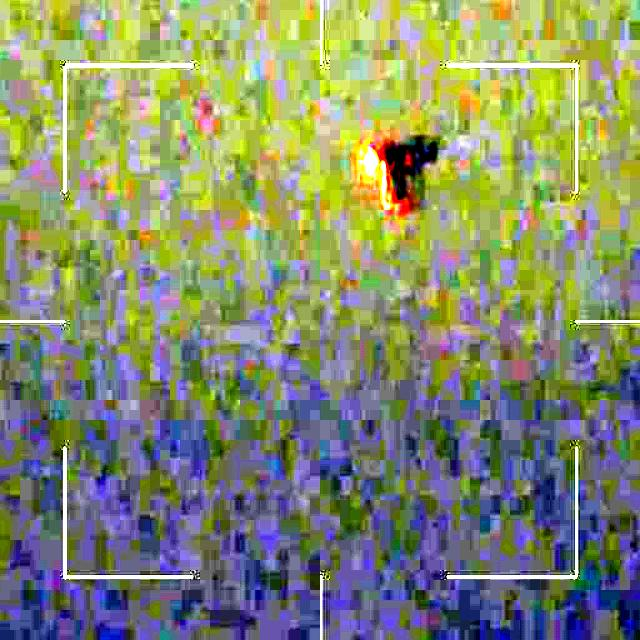bird: (351, 125, 446, 214)
